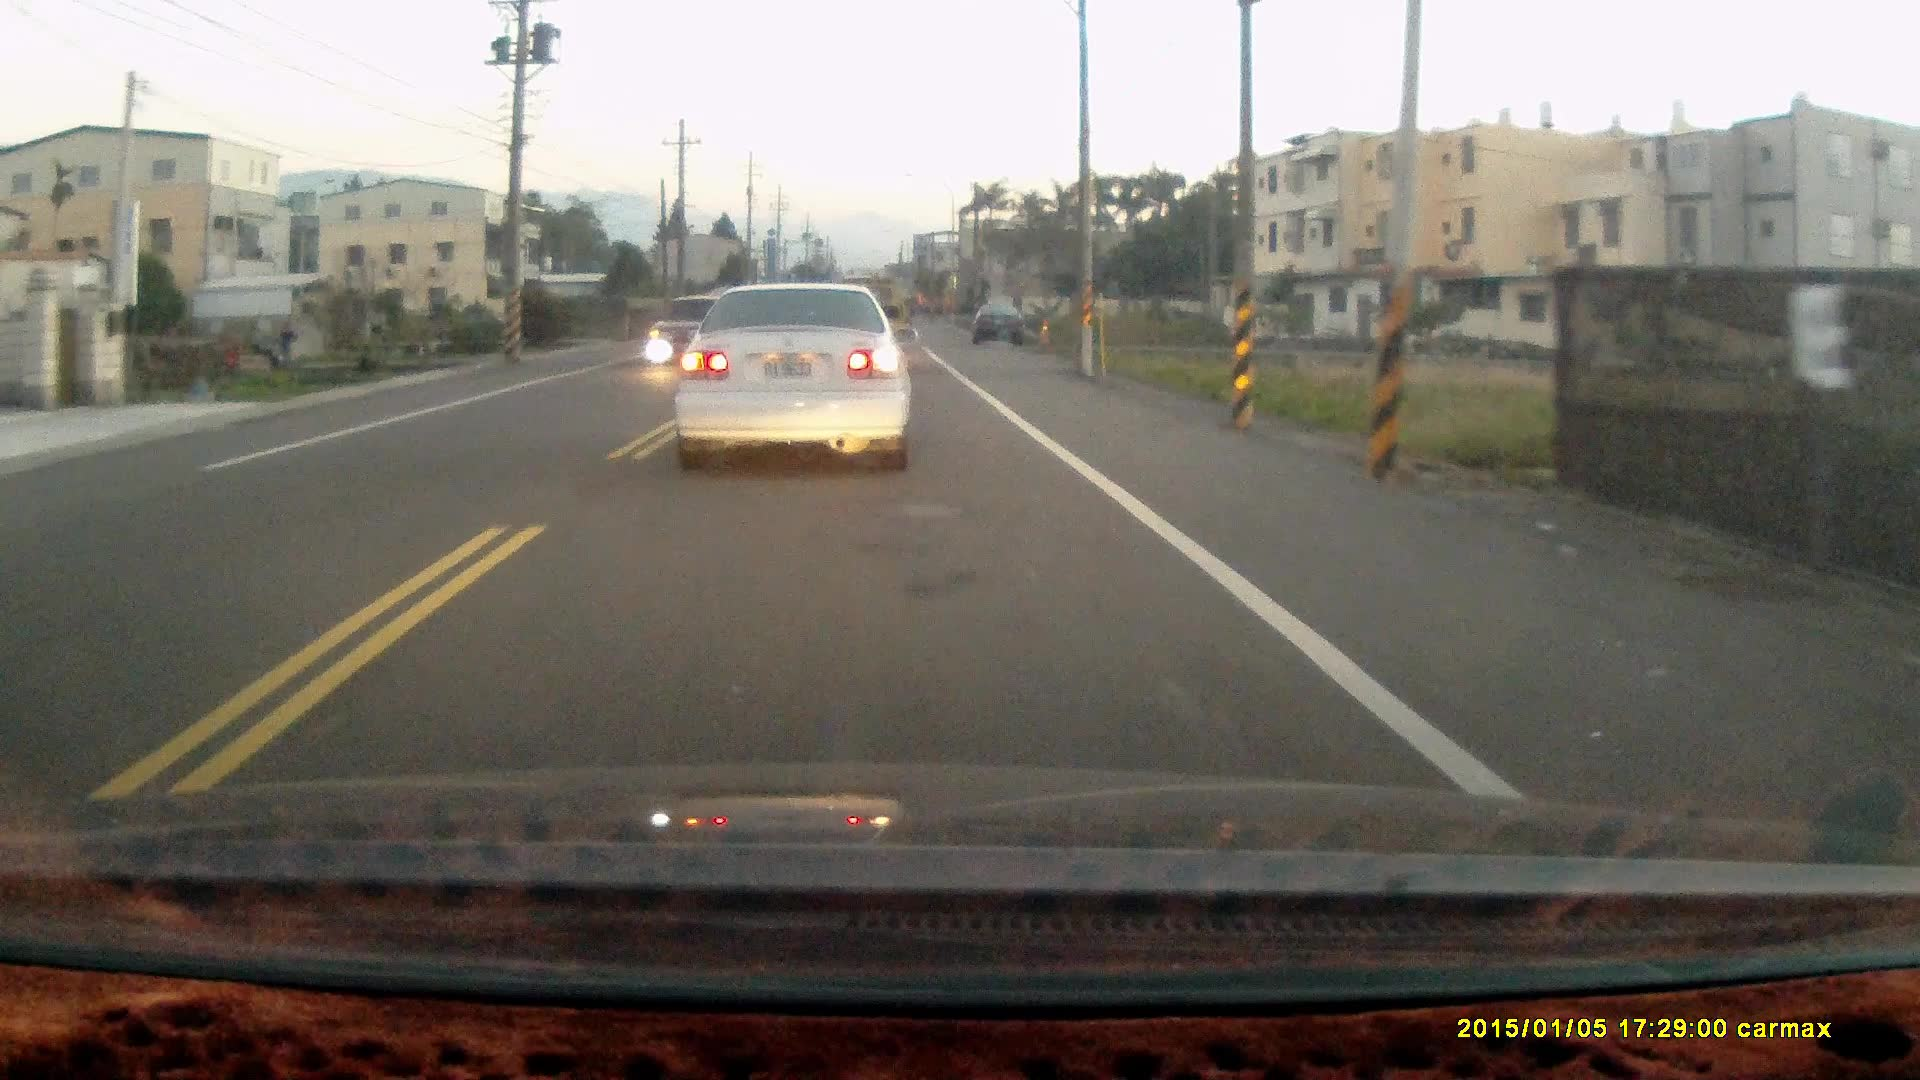pedestrian: (275, 319, 295, 368), (220, 337, 241, 381)
vehicle: (676, 280, 917, 469), (646, 290, 735, 379), (971, 302, 1031, 347)
